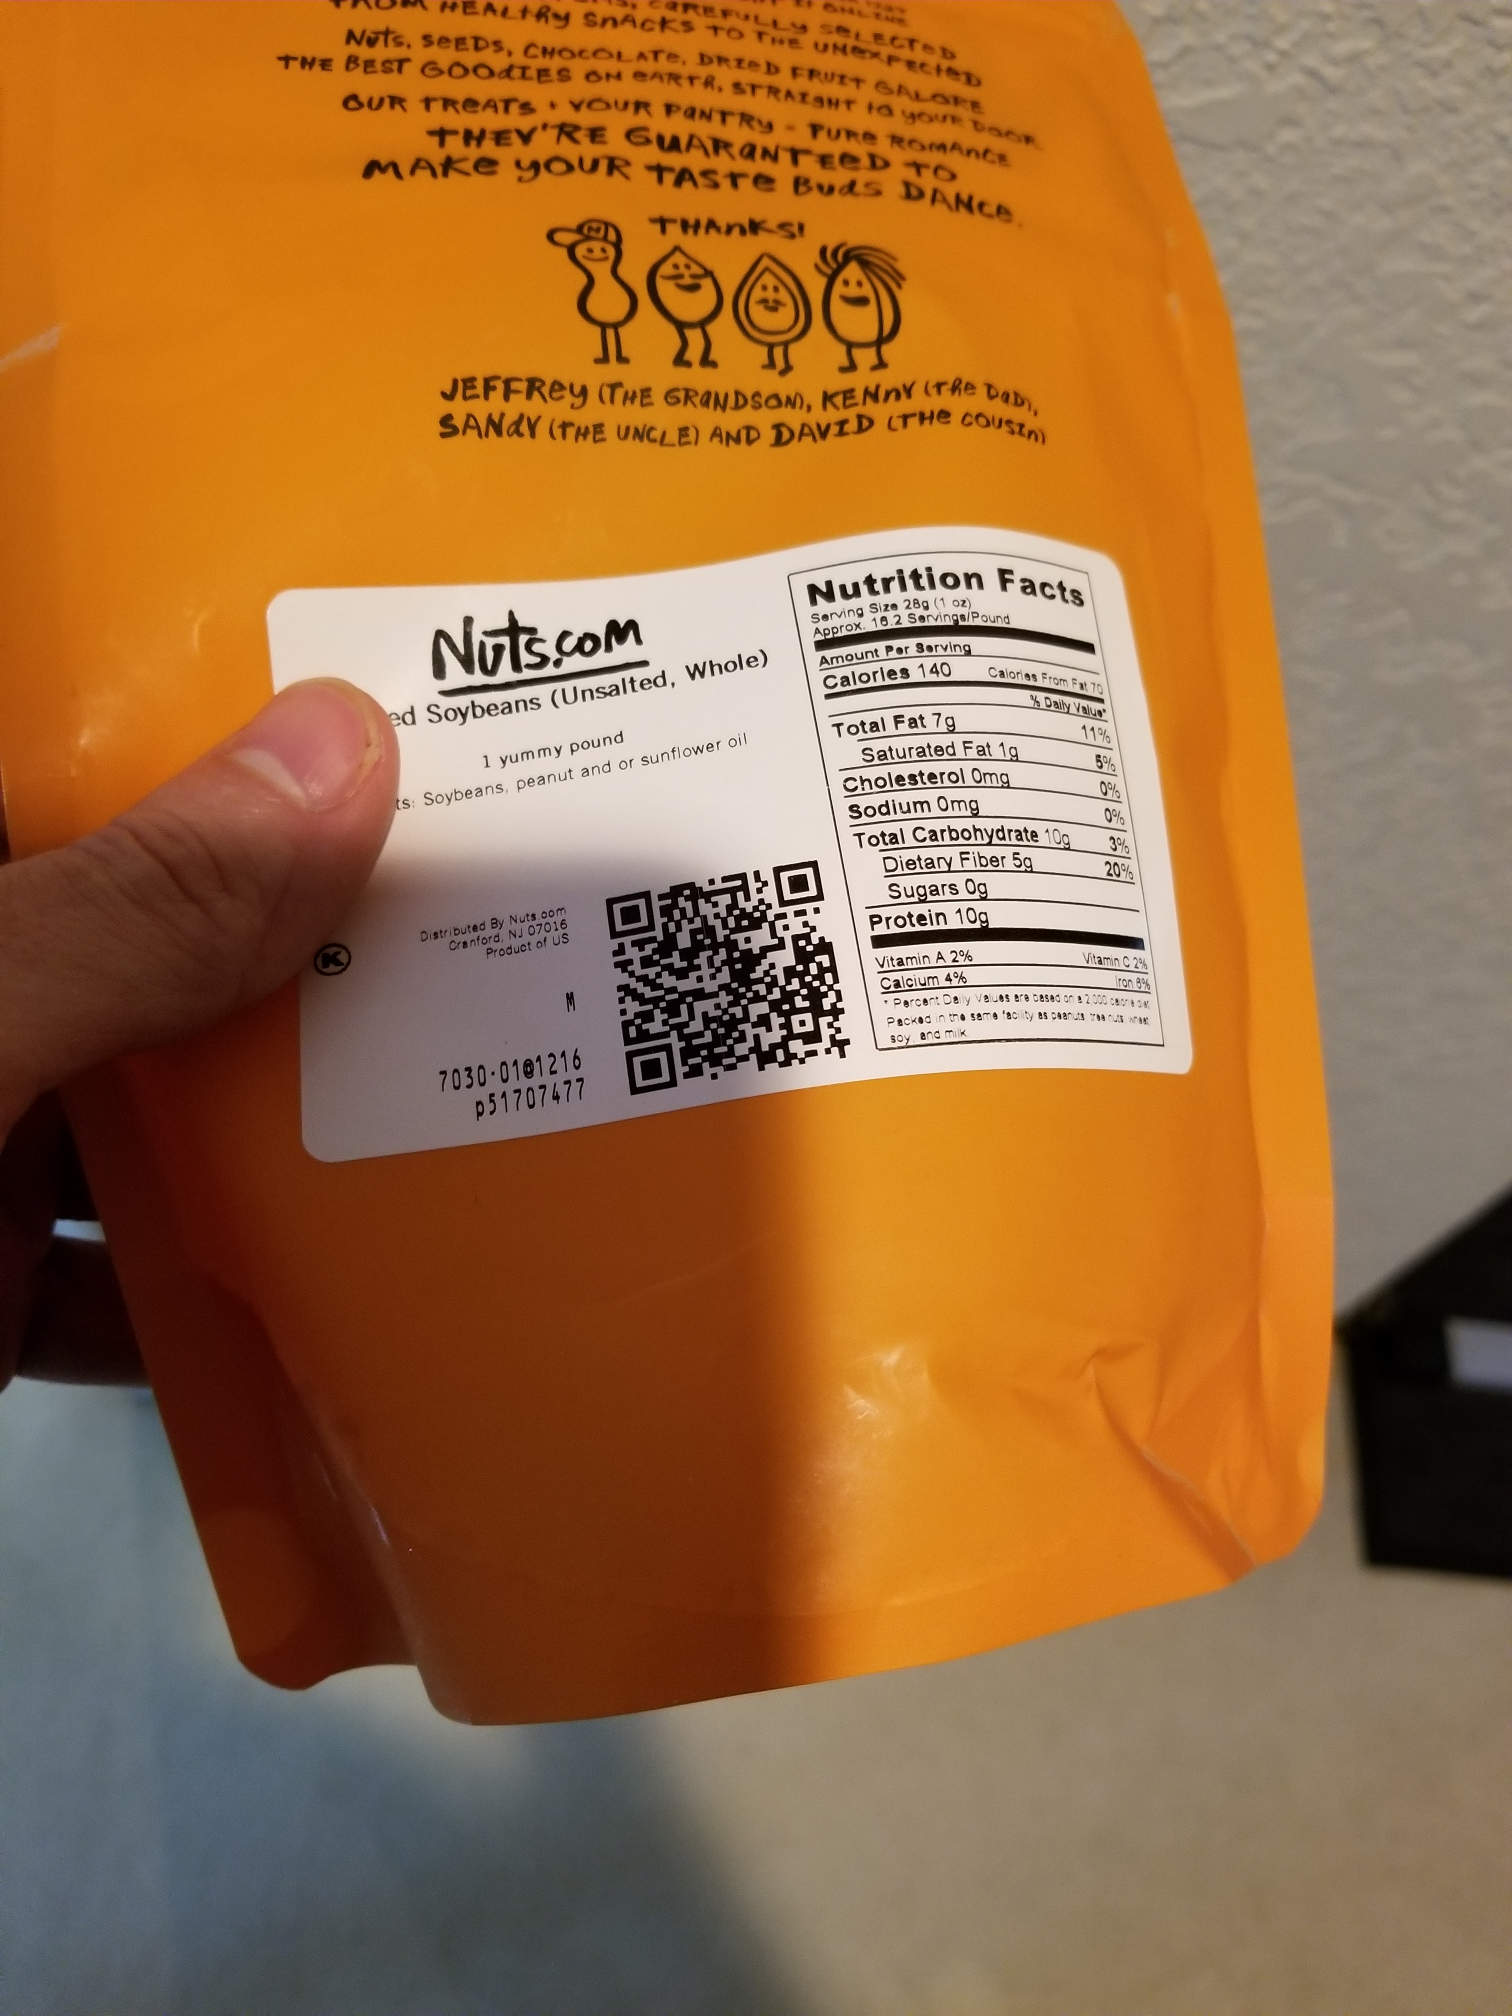QR_CODE: (577, 843, 858, 1110)
